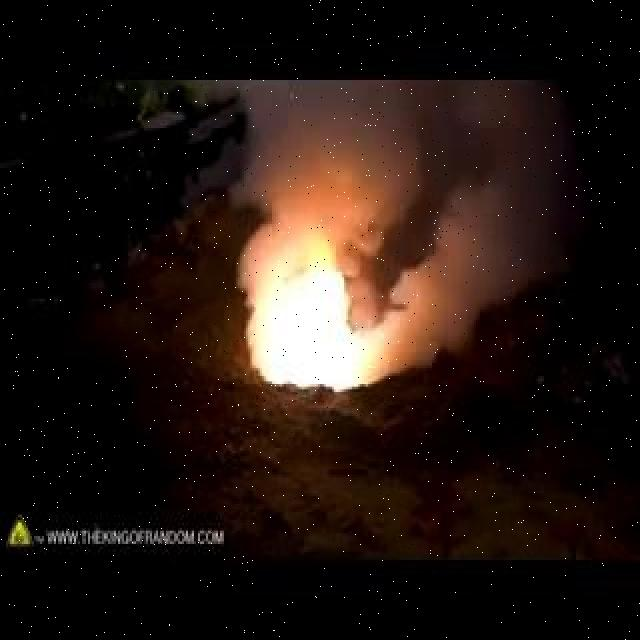fire: (254, 279, 365, 379)
smoke: (262, 87, 552, 264)
